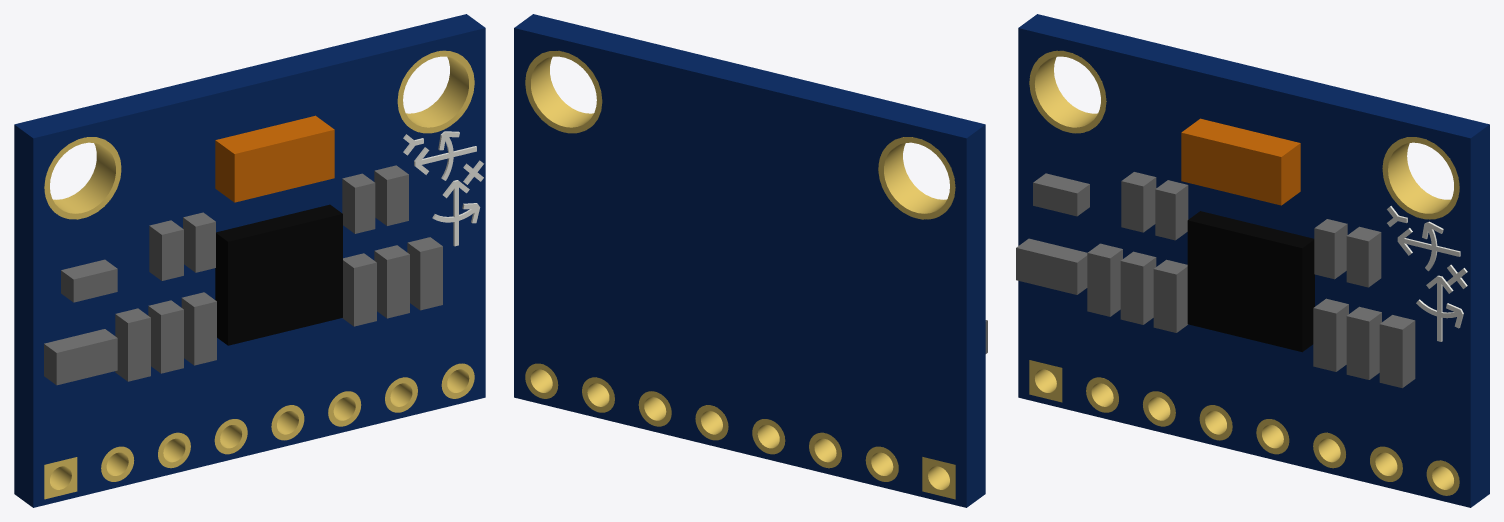
The model's file is mpu6050.obj.
3 renders of one model, left to right at view 1: azimuth 30°, elevation 25°; view 2: azimuth 150°, elevation 25°; view 3: azimuth 330°, elevation 25°, orthographic.
Parts seen in each view (by area): view 1: pcb, pcb025; view 2: pcb; view 3: pcb, pcb025.
Part boxes in pixels (left/top/right/bottom): pcb: left=14, top=14, right=485, bottom=507; pcb025: left=403, top=131, right=483, bottom=246; pcb: left=514, top=14, right=987, bottom=507; pcb: left=1016, top=14, right=1489, bottom=507; pcb025: left=1387, top=206, right=1467, bottom=341.
Bounding box in the file's own units: 0.0205 × 0.016 × 0.003.
